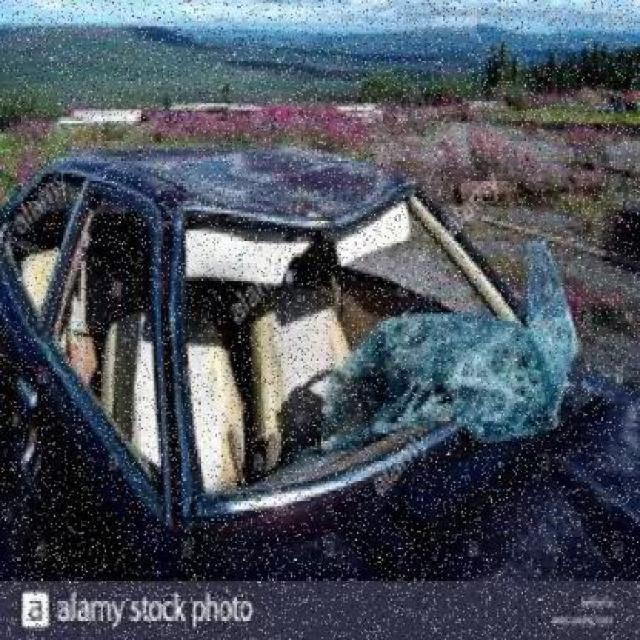Front-Windscreen-Damage: (188, 200, 545, 477)
pillar-dent: (145, 223, 197, 517)
roof-dent: (32, 134, 423, 224)
